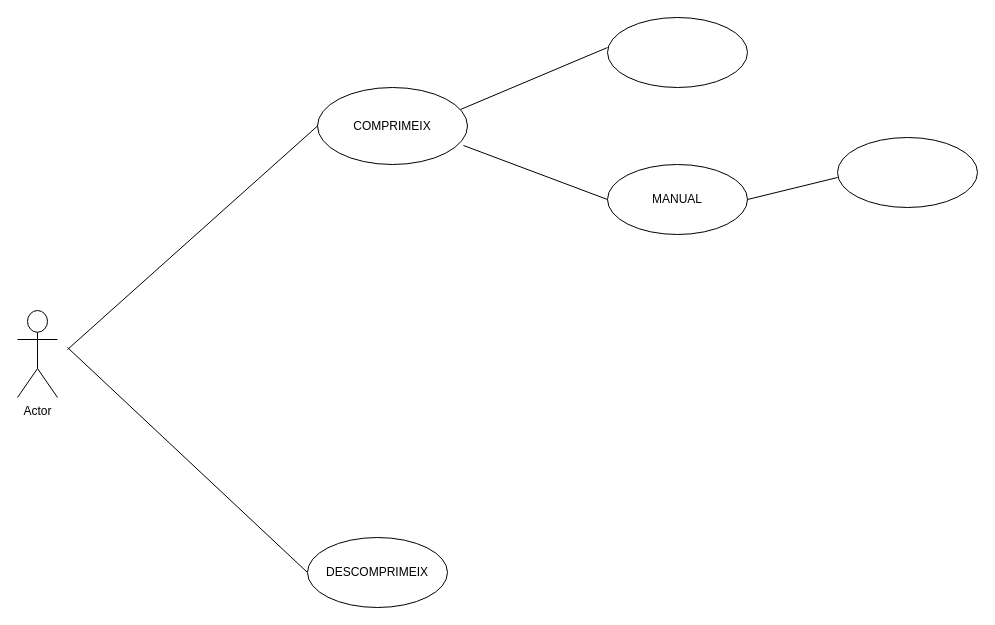
Image size: 995x625. Some labels were removed from this diagram. The box of each missing label's shape, as (x1, y1, x2, y2) in pixels:
AUTOMÀTIC: (606, 16, 748, 88)
ESCOLLIR ALGORITME: (836, 136, 978, 208)
